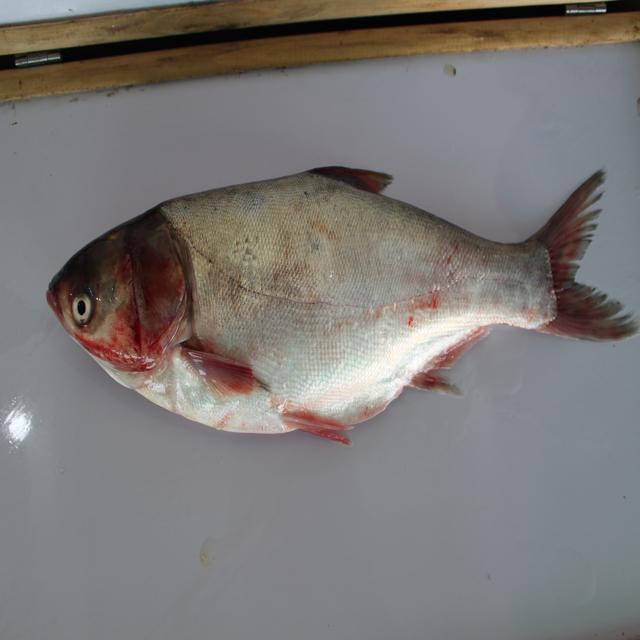SilverCarp: (44, 161, 626, 436)
